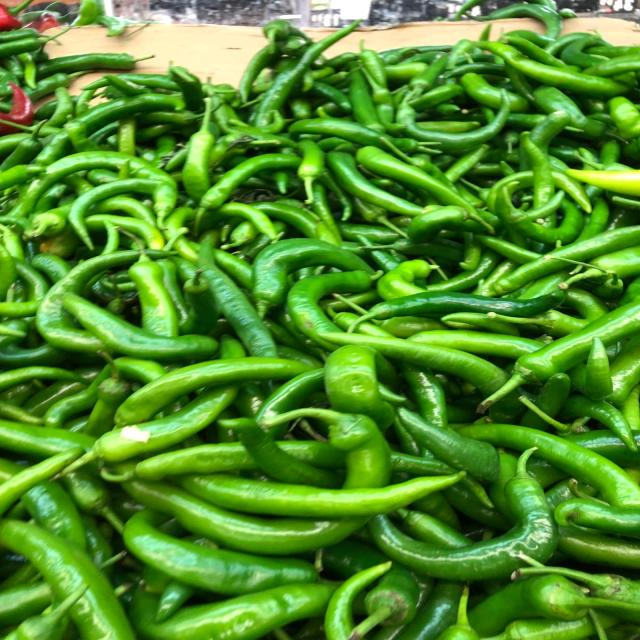green pepper: (370, 444, 558, 584), (48, 379, 265, 488), (163, 462, 480, 525), (343, 282, 576, 340)
